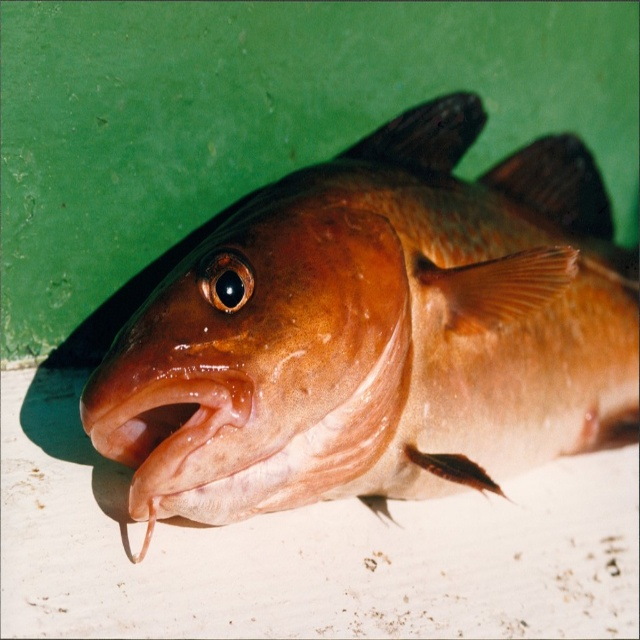Fish: (79, 91, 640, 563)
